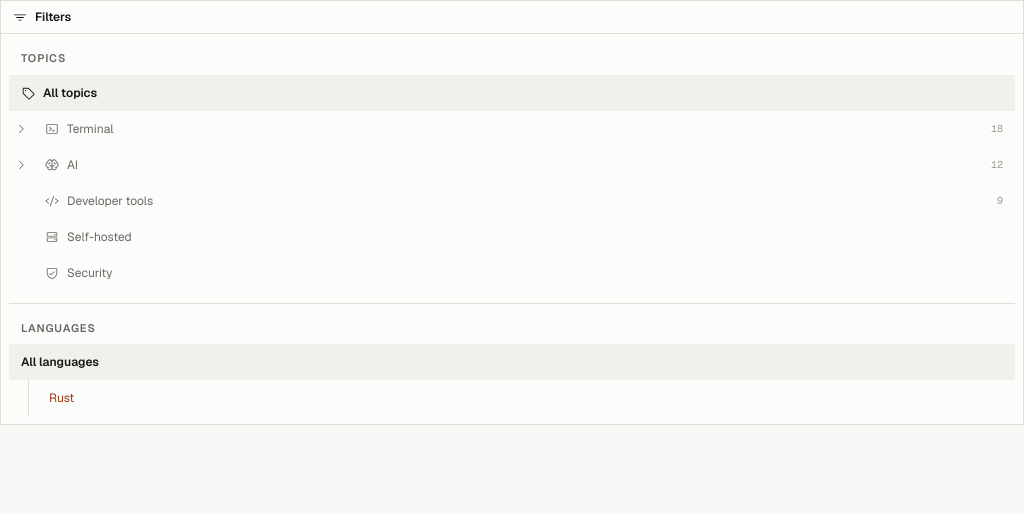
it: topic navigation › expands and collapses an individual topic group
Expected: the link "TUIs" is not shown
Expected: the link "Terminal 18" is shown, x1=45 y1=120 x2=1003 y2=136
Click the button named "expand terminal": (21, 128) x1=9 y1=110 x2=33 y2=146
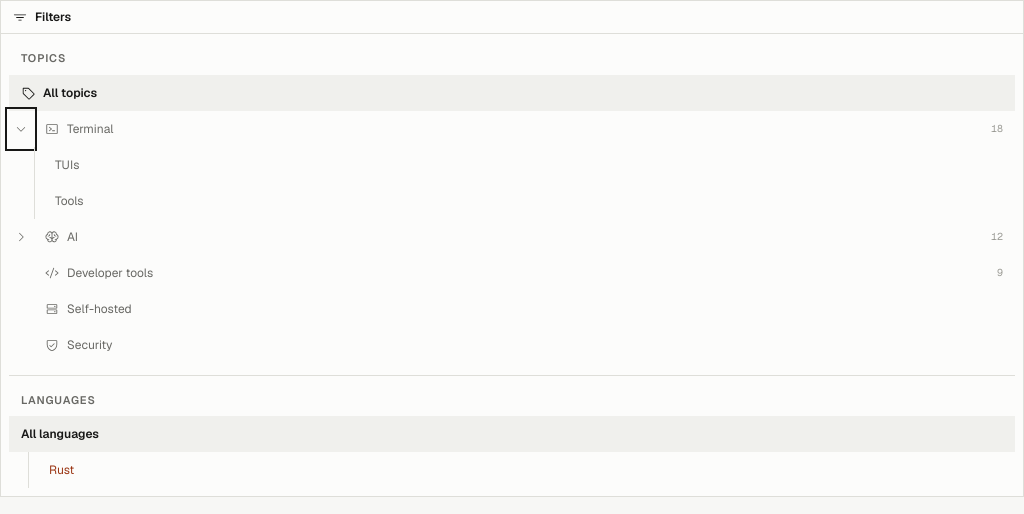
Now the button named "collapse terminal" is shown
Click the button named "collapse terminal": (21, 128) x1=9 y1=110 x2=33 y2=146
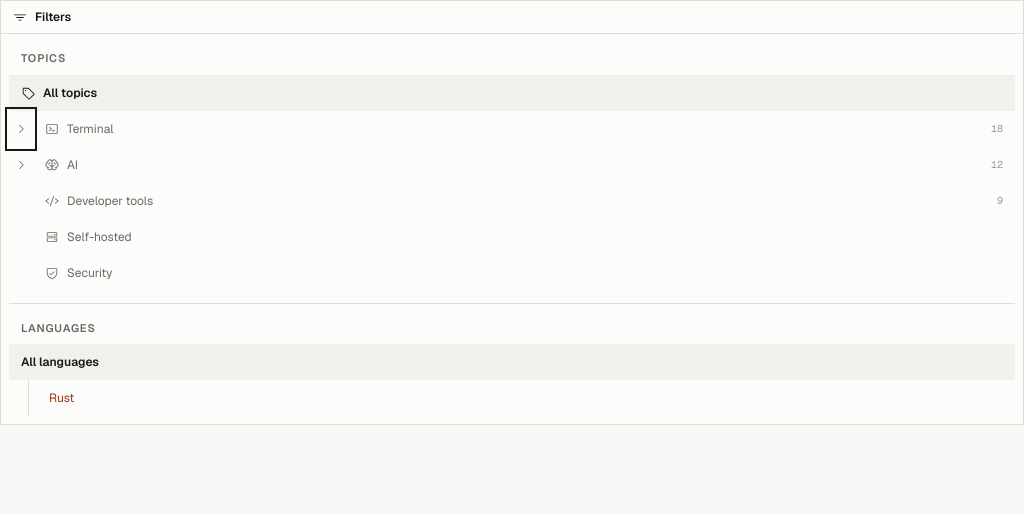
Now the link "TUIs" is gone
